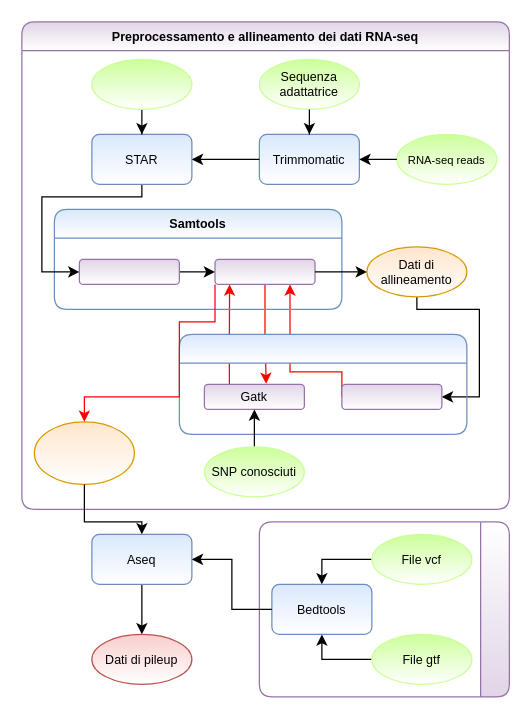
Some shapes in this 531 by 719 pixel diagram are drawn without their labels. Each missing label, with the box of its shape:
Dati di allineamento riallineati e ricalibrati: (33, 421, 134, 484)
Deduplicazione, riallineamento e ricalibrazione: (178, 333, 467, 434)
Genoma di riferimento: (91, 58, 192, 109)
Indicizzazione: (214, 258, 315, 284)
Ordinamento: (78, 258, 179, 284)
Ottenimento degli SNP: (258, 521, 509, 697)
Picard: (341, 383, 442, 409)
